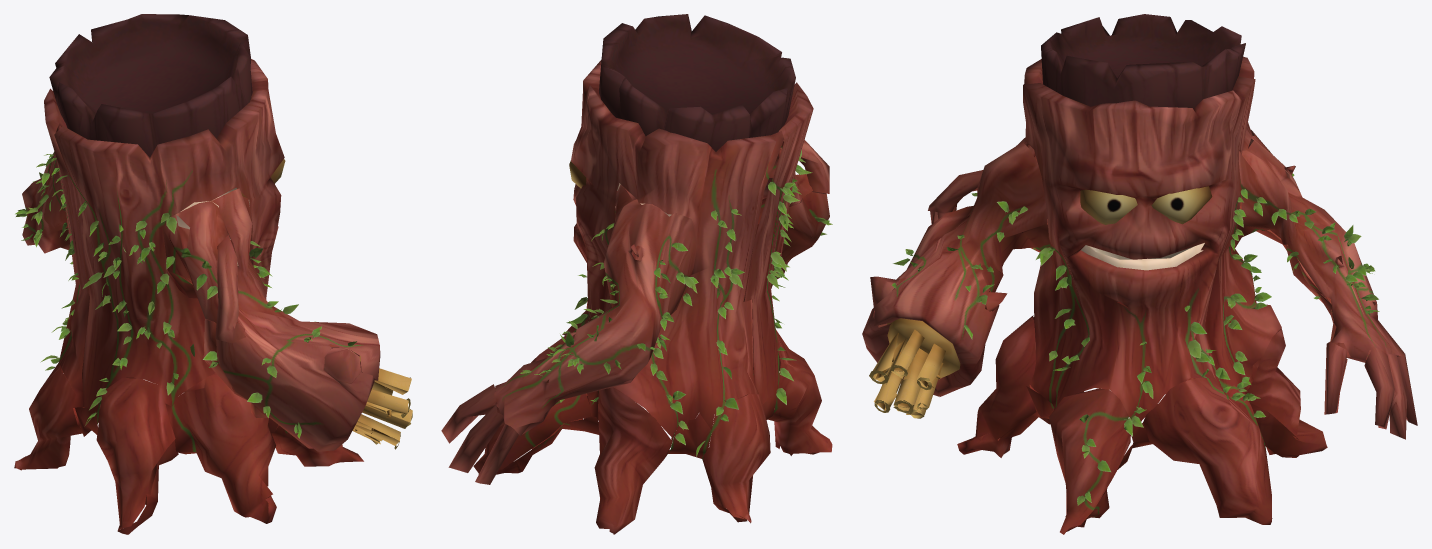
The model's file is Villain1D.glb.
3 renders of one model, left to right at view 1: azimuth 30°, elevation 25°; view 2: azimuth 150°, elevation 25°; view 3: azimuth 270°, elevation 25°, orthographic.
Parts seen in each view (by area): view 1: vilain1D; view 2: vilain1D; view 3: vilain1D.
Boxes of the visible parts, box(x1,y1,x2,y2) form: vilain1D: box(14, 14, 412, 534); vilain1D: box(441, 14, 832, 534); vilain1D: box(862, 14, 1417, 534).
Bounding box in the file's own units: 2.73 × 4.18 × 4.94.
1 material, 1 textured.
